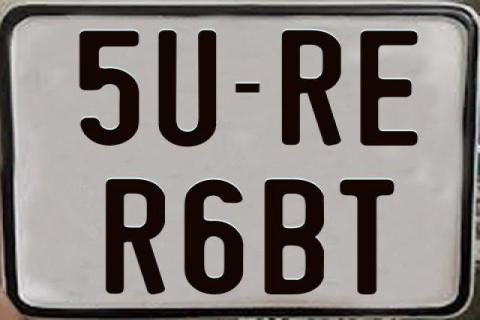0: (80, 30, 146, 146), (184, 177, 246, 293)
B: (263, 179, 325, 297)
E: (358, 30, 419, 148)
R: (105, 177, 170, 292), (282, 30, 341, 148)
T: (338, 177, 398, 297)
U: (158, 29, 222, 149)
